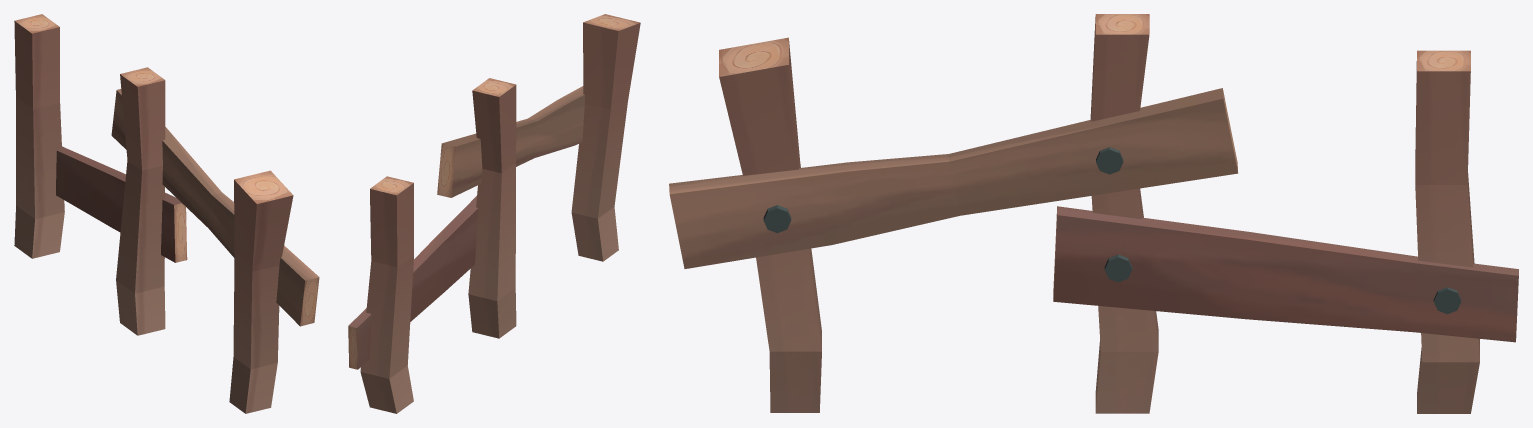
The model's file is Mesh_Fence.fbx.
3 views of the same model, side by side, from view 1: azimuth 30°, elevation 25°; view 2: azimuth 150°, elevation 25°; view 3: azimuth 270°, elevation 25° (orthographic). The views are drawn at different scales.
Visible parts, largest first — view 1: Fence; view 2: Fence; view 3: Fence.
Boxes of the visible parts, x1=… form: Fence: x1=14, y1=14, x2=319, y2=413; Fence: x1=348, y1=14, x2=640, y2=413; Fence: x1=669, y1=14, x2=1518, y2=413.
Size of the model in its own units: 39.14 by 190 by 387.
